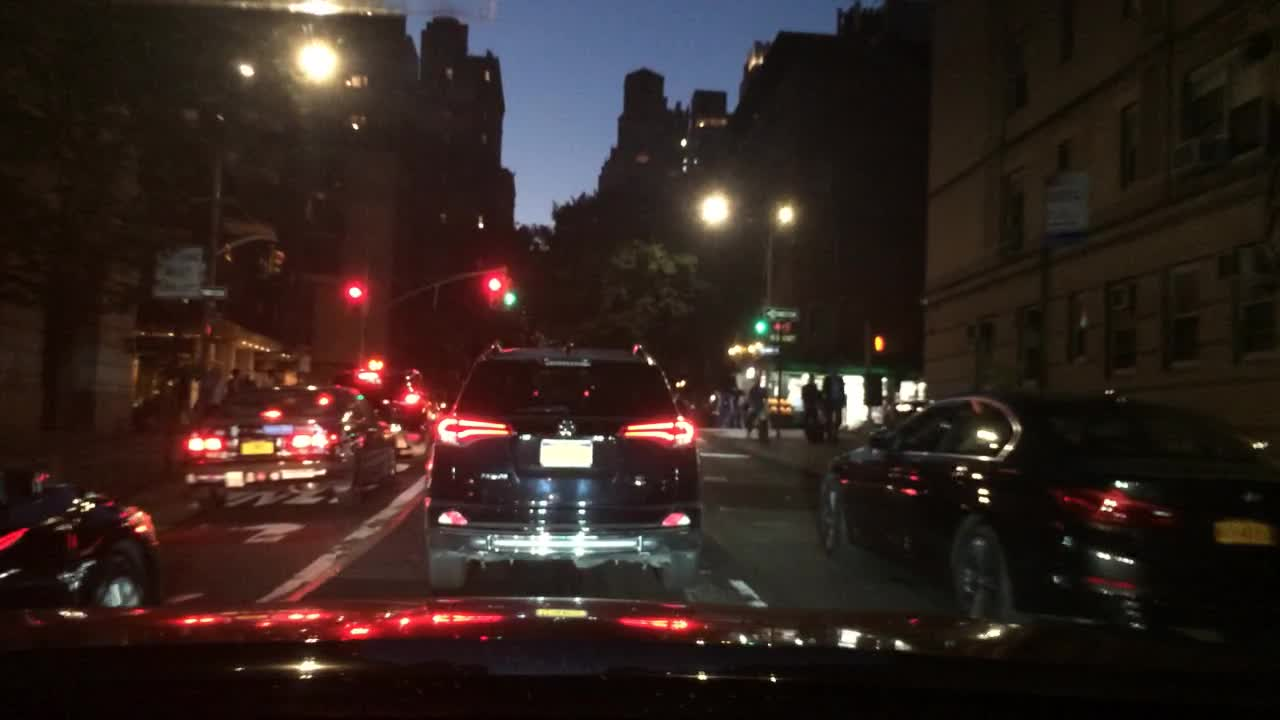car: (816, 388, 1277, 634), (421, 339, 705, 593), (182, 382, 407, 509), (0, 461, 163, 616), (327, 389, 433, 464)
person: (744, 373, 771, 441), (799, 372, 824, 441), (822, 369, 845, 441)
traffic light: (259, 246, 285, 278), (476, 272, 502, 302), (501, 275, 514, 310)
traffic sign: (1042, 170, 1090, 232), (151, 244, 201, 297), (765, 321, 797, 342), (762, 307, 798, 320), (201, 287, 228, 299)
